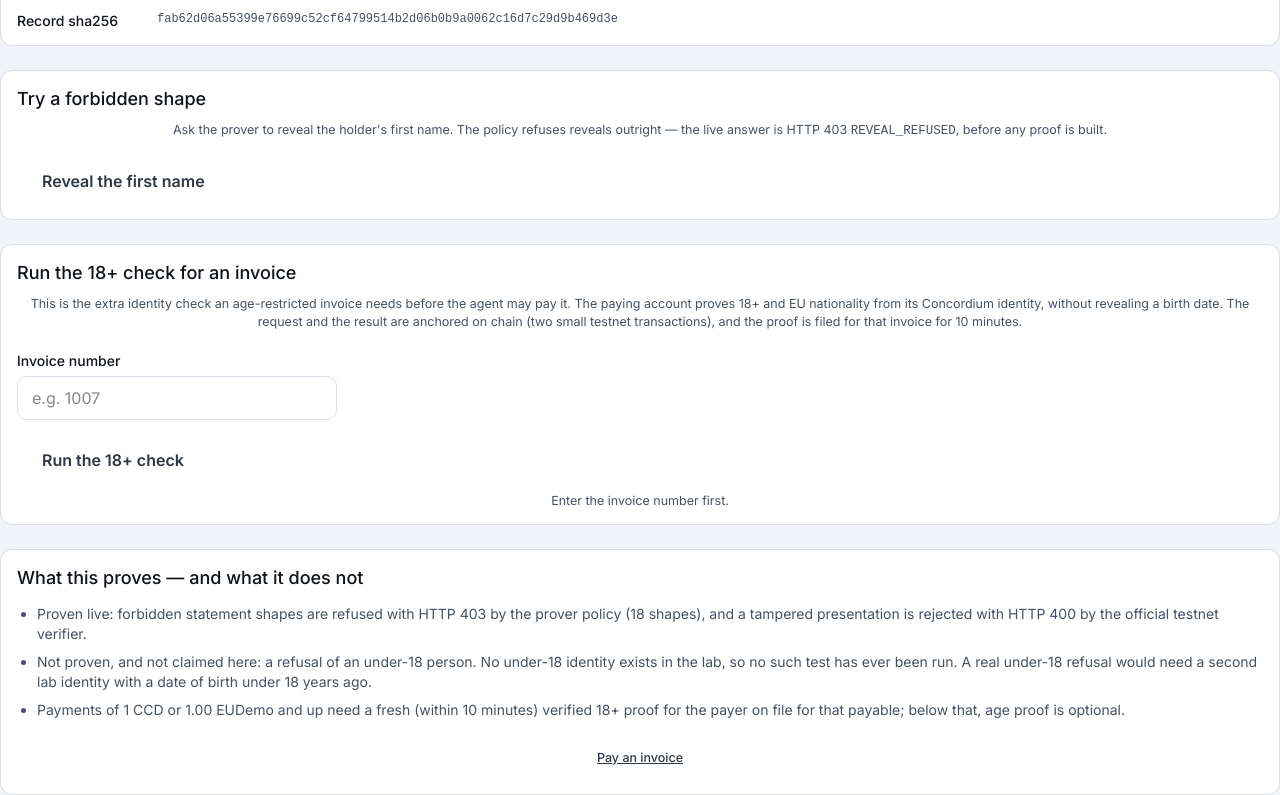
Test: AgeProofPage › the 18+ check needs an invoice number: the button stays disabled until one is typed
This screenshot has width=1280, height=795.
(page scrolled)
Expected: the button "Run the 18+ check" is disabled, [17,436,209,484]
Type "abc" into the field labelled "Invoice number" at (177, 398), box [17,376,337,420]
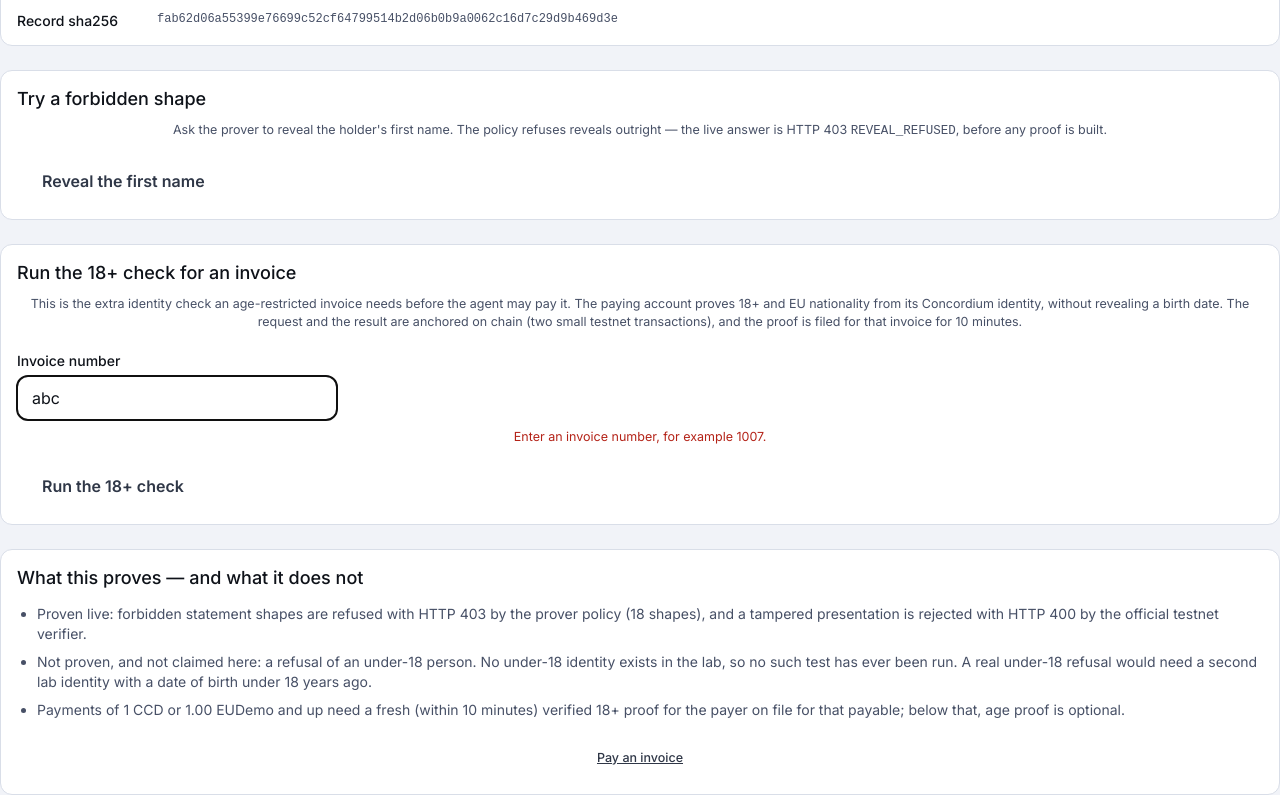
Expected: the button "Run the 18+ check" is disabled, [17,462,209,510]
Expected: the message shows "Enter an invoice number", [514,429,766,444]
